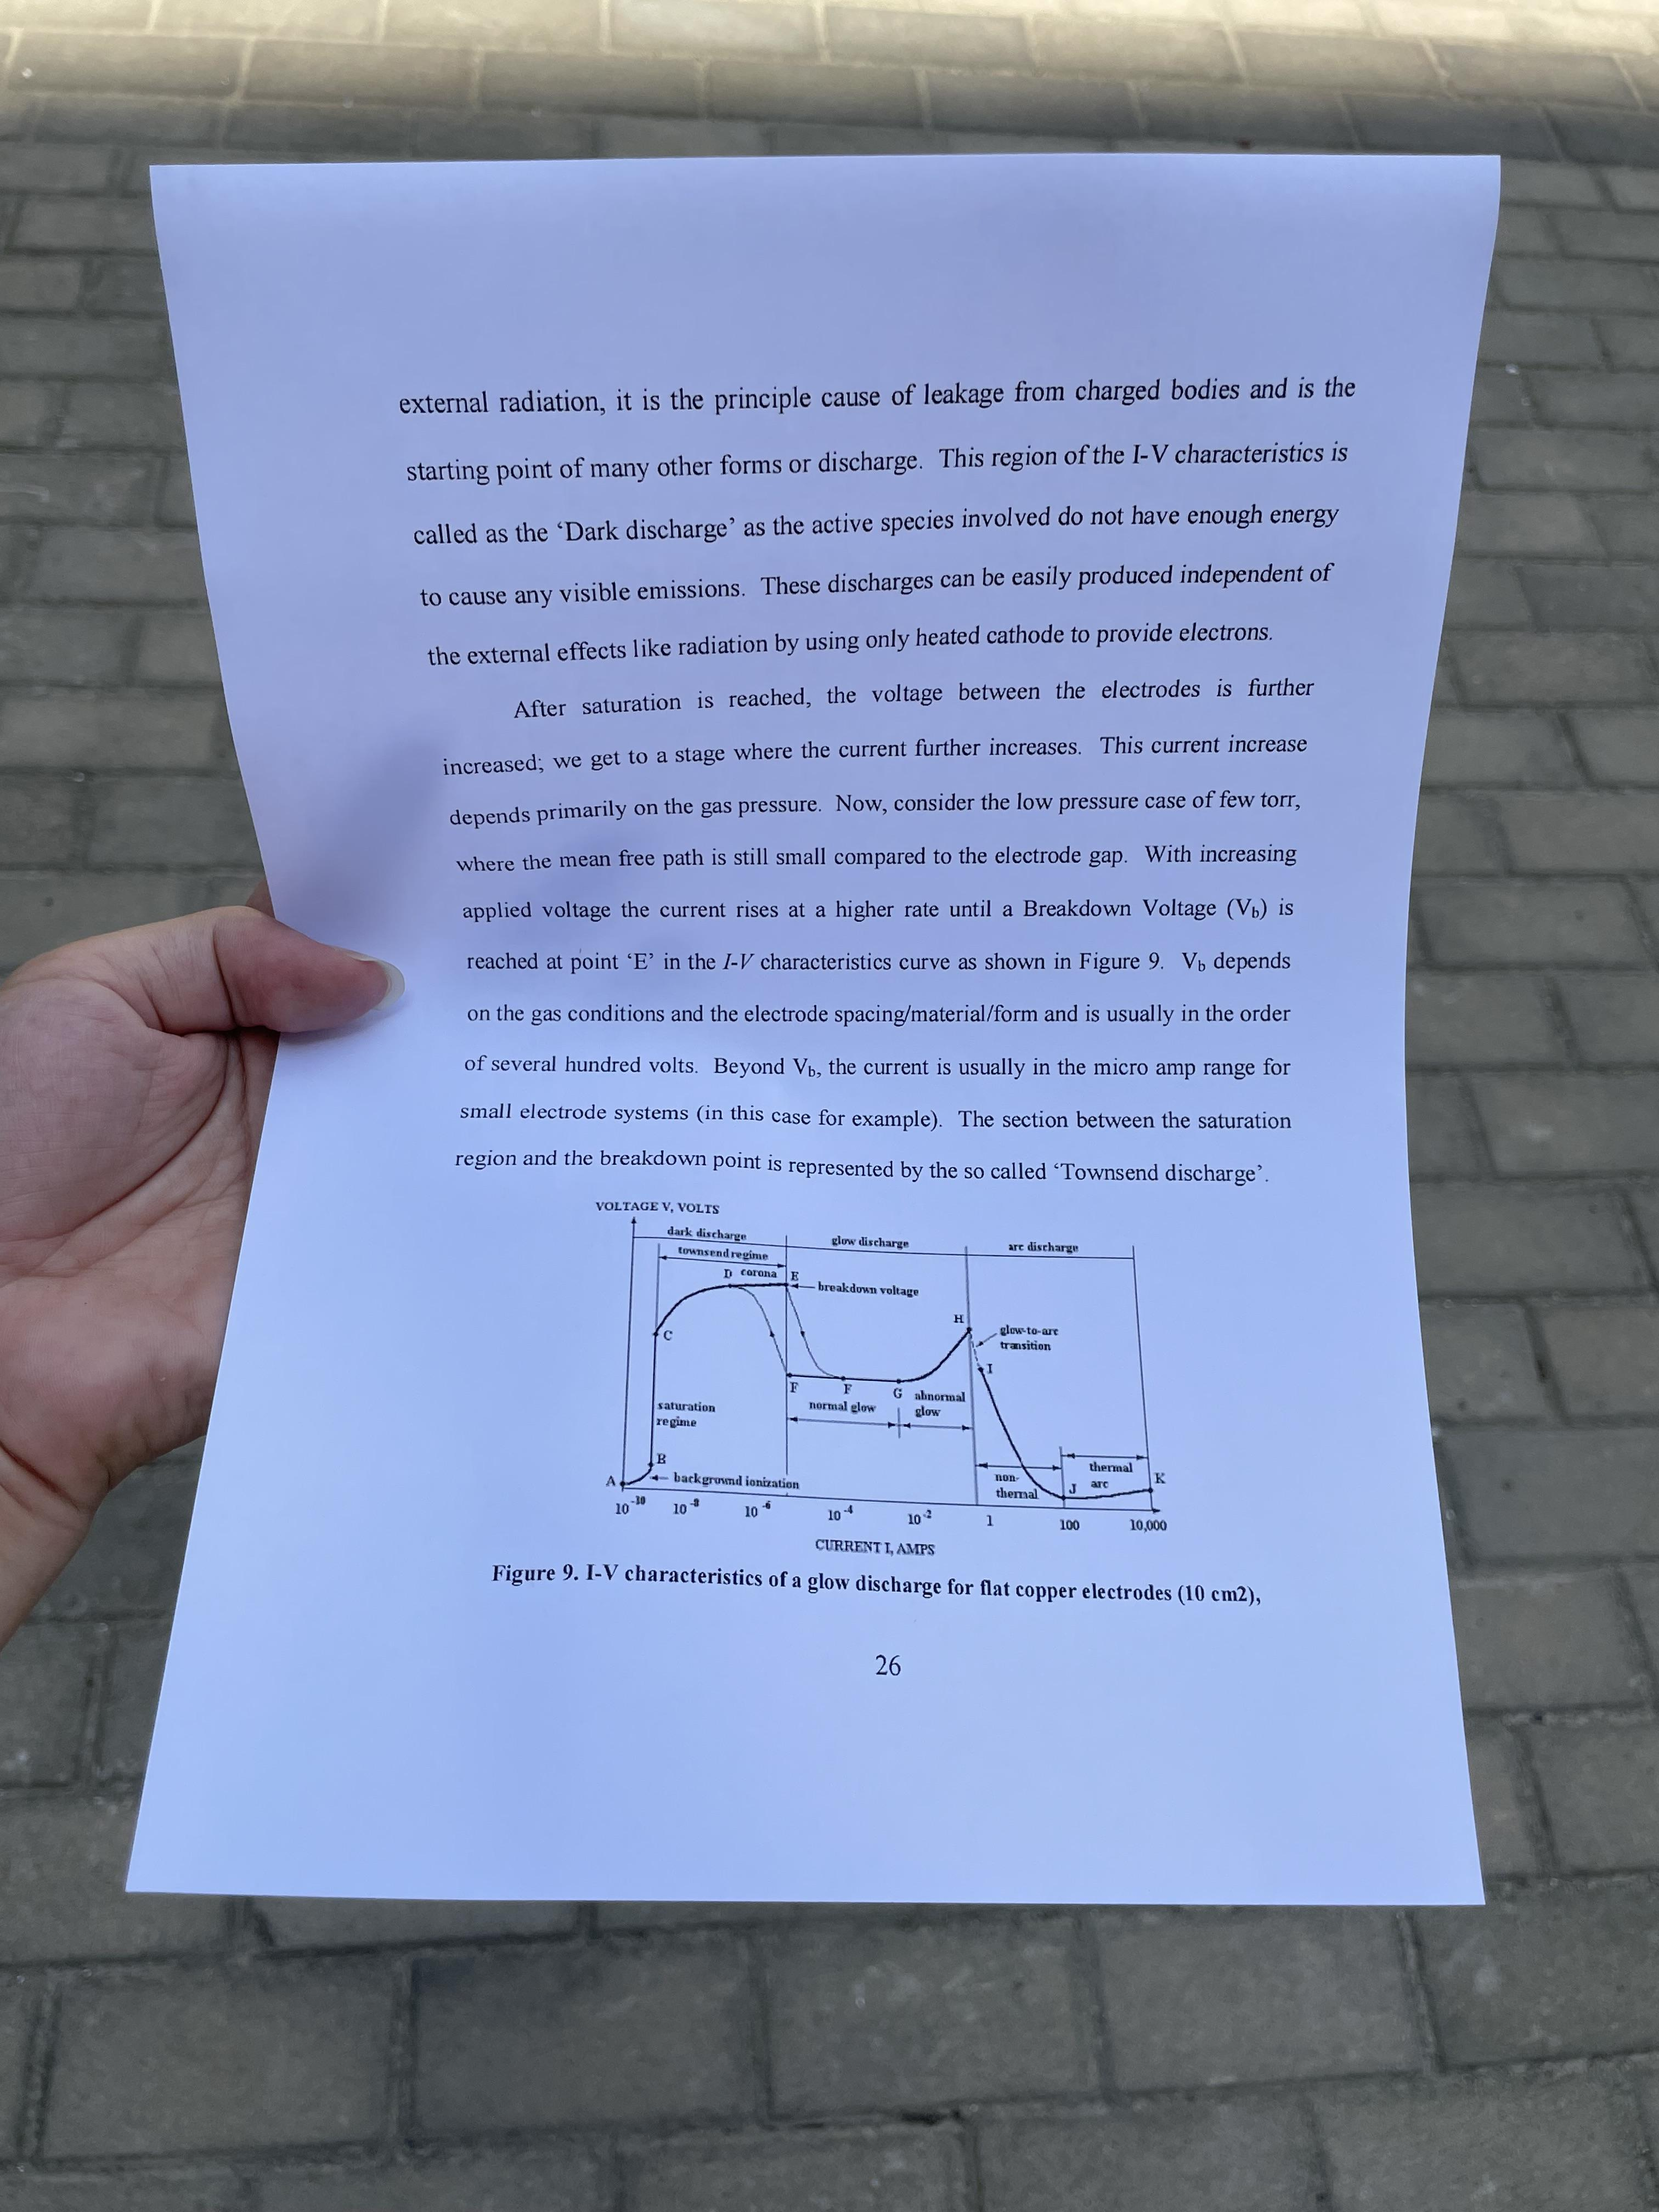paper: (54, 57, 1558, 2066)
